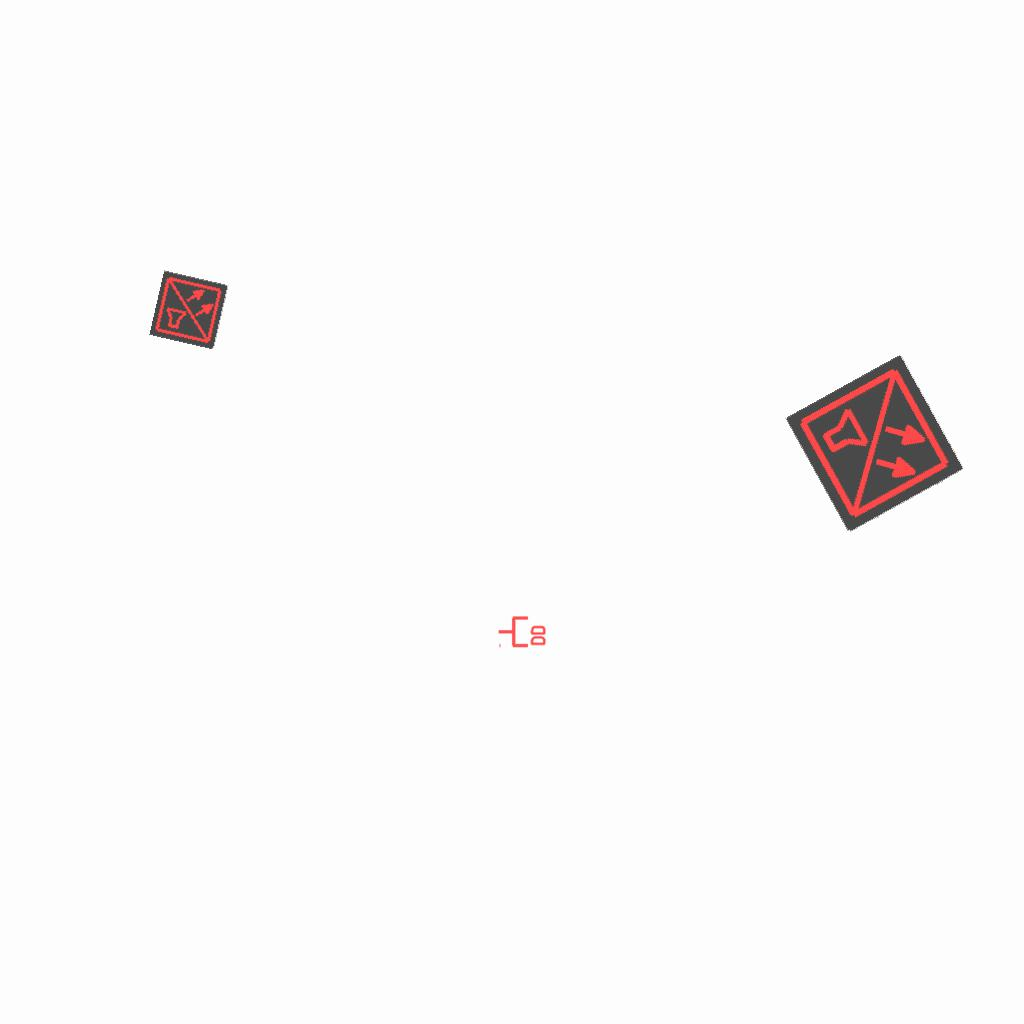Datenanschluss_zweifach: (497, 614, 548, 648)
OKW_Multisensormelder_(Kombination_optischer_Rauch-Kahlenmonoxid_Waerme-Melder): (785, 354, 965, 534), (149, 270, 229, 350)
